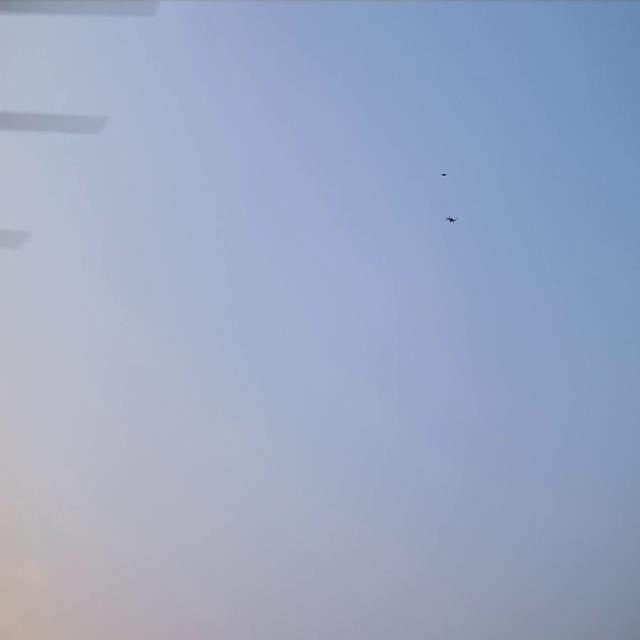UAV: (446, 215, 458, 225)
